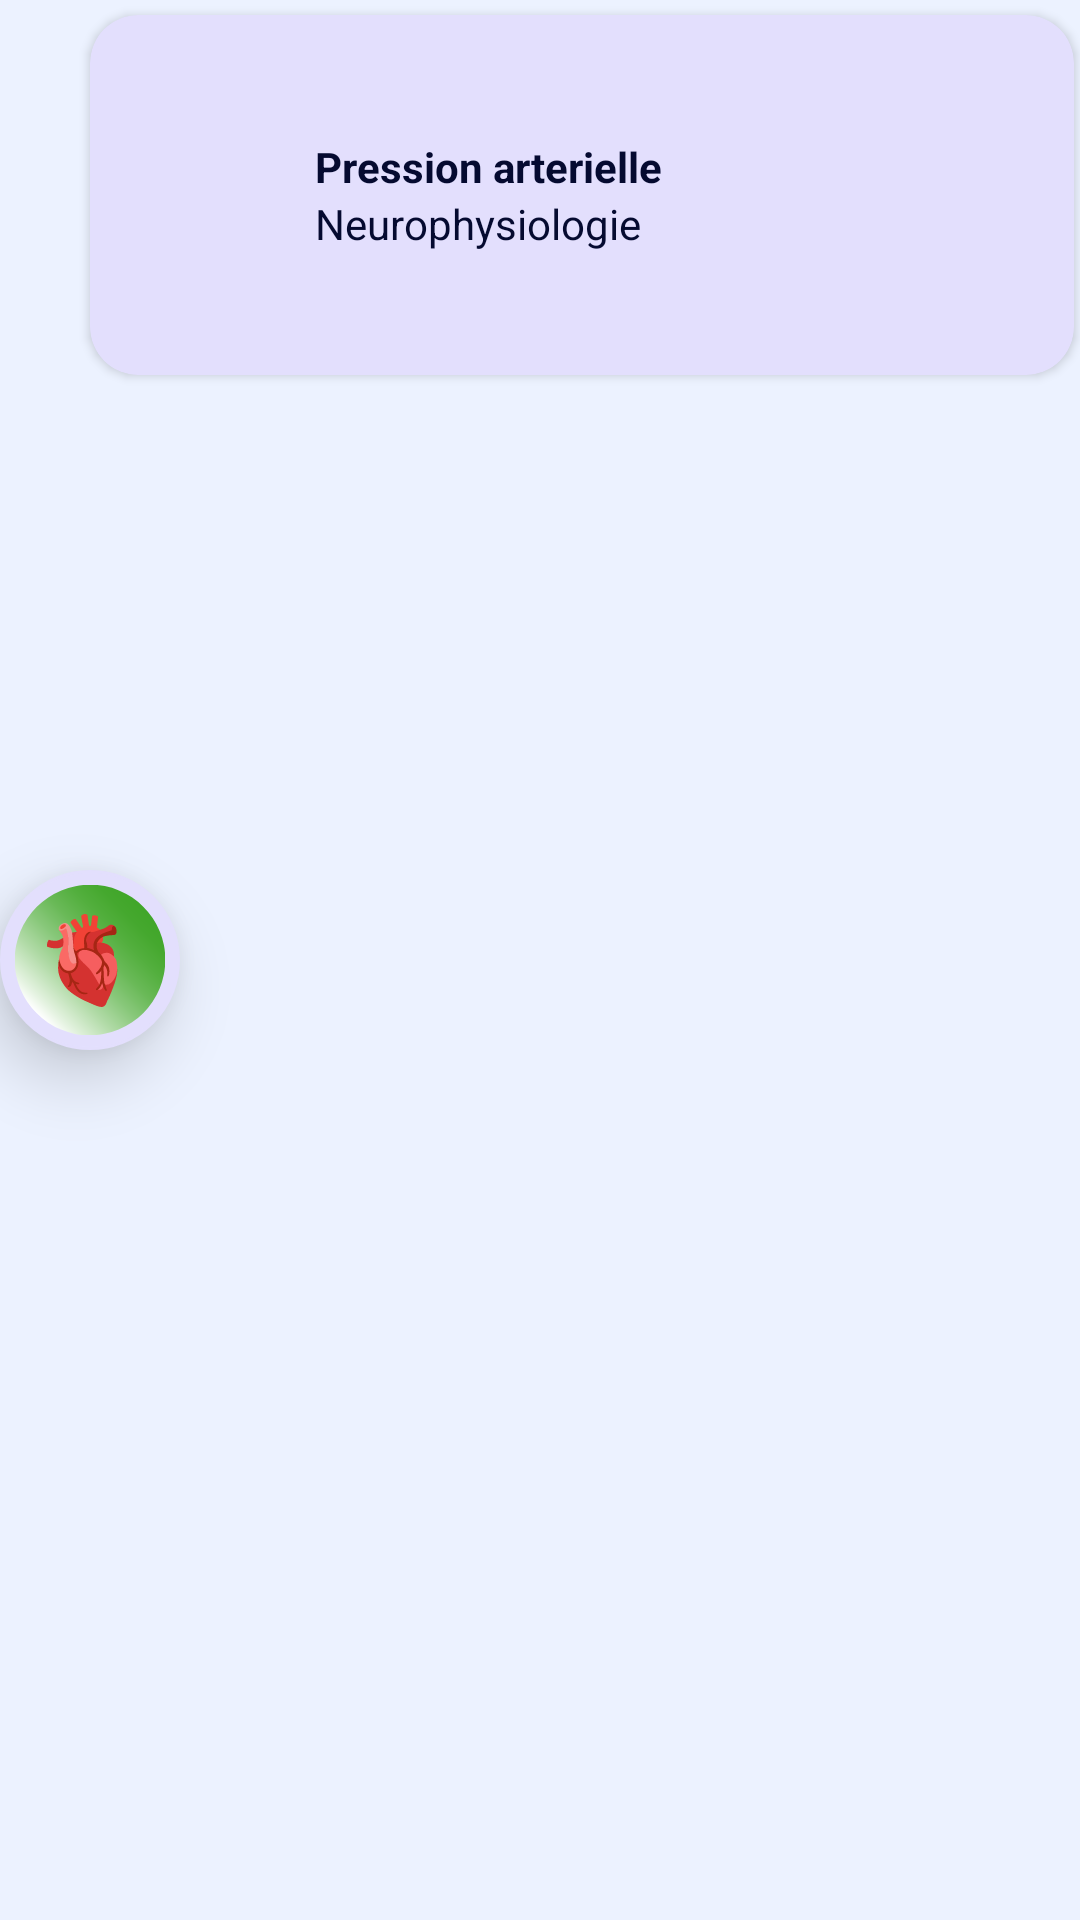

Icon bounding boxes for this 1080 x 1920 phone screenshot, format (x1, y1, x2, y2):
Icône pression arterielle: (4, 885, 165, 1046)
